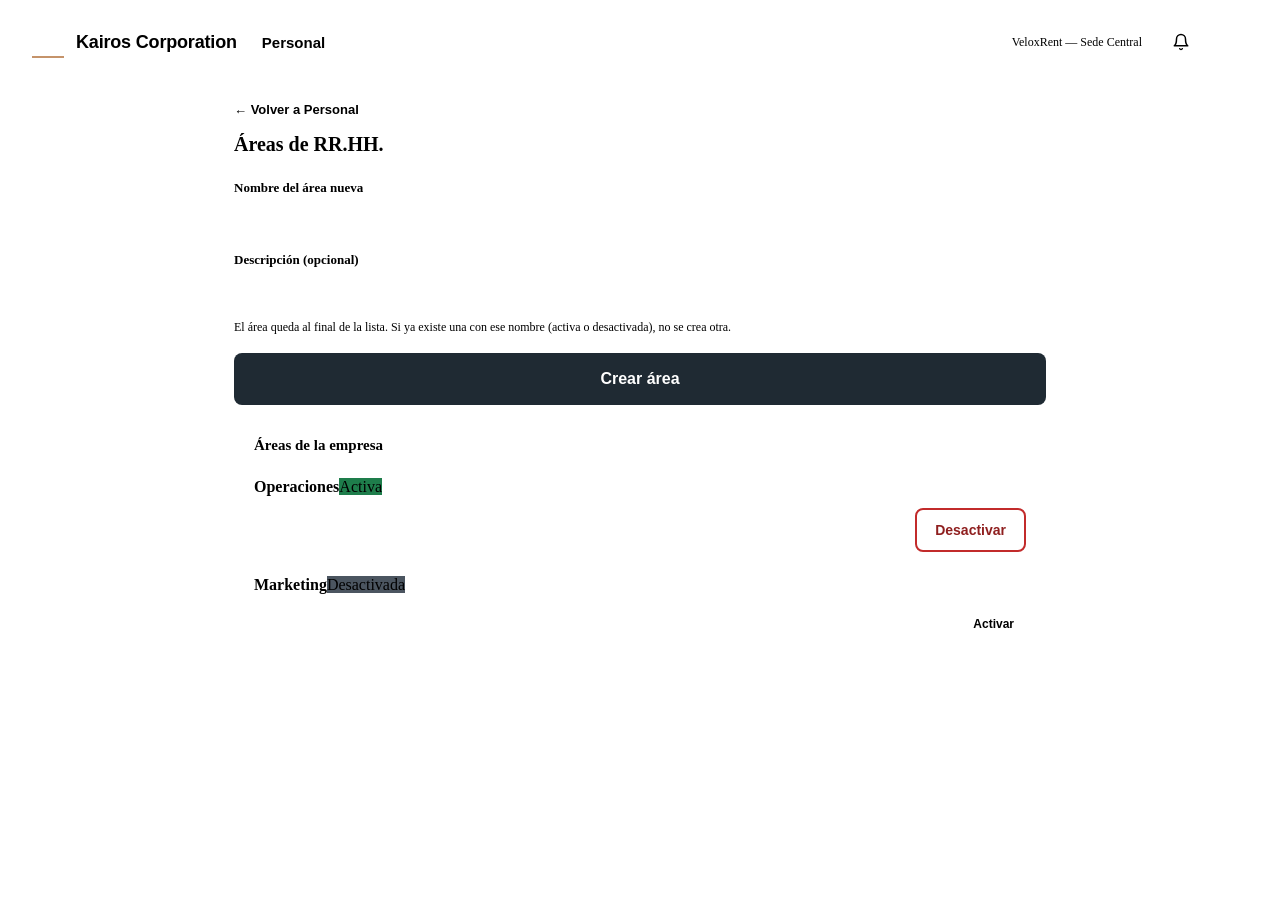
Test: AreasScreen (gestión de áreas de RR.HH.) › desactiva y reactiva un área
Click the button with aria-label "Desactivar el área Operaciones" at point(971, 530), box 915,508 -> 1026,552
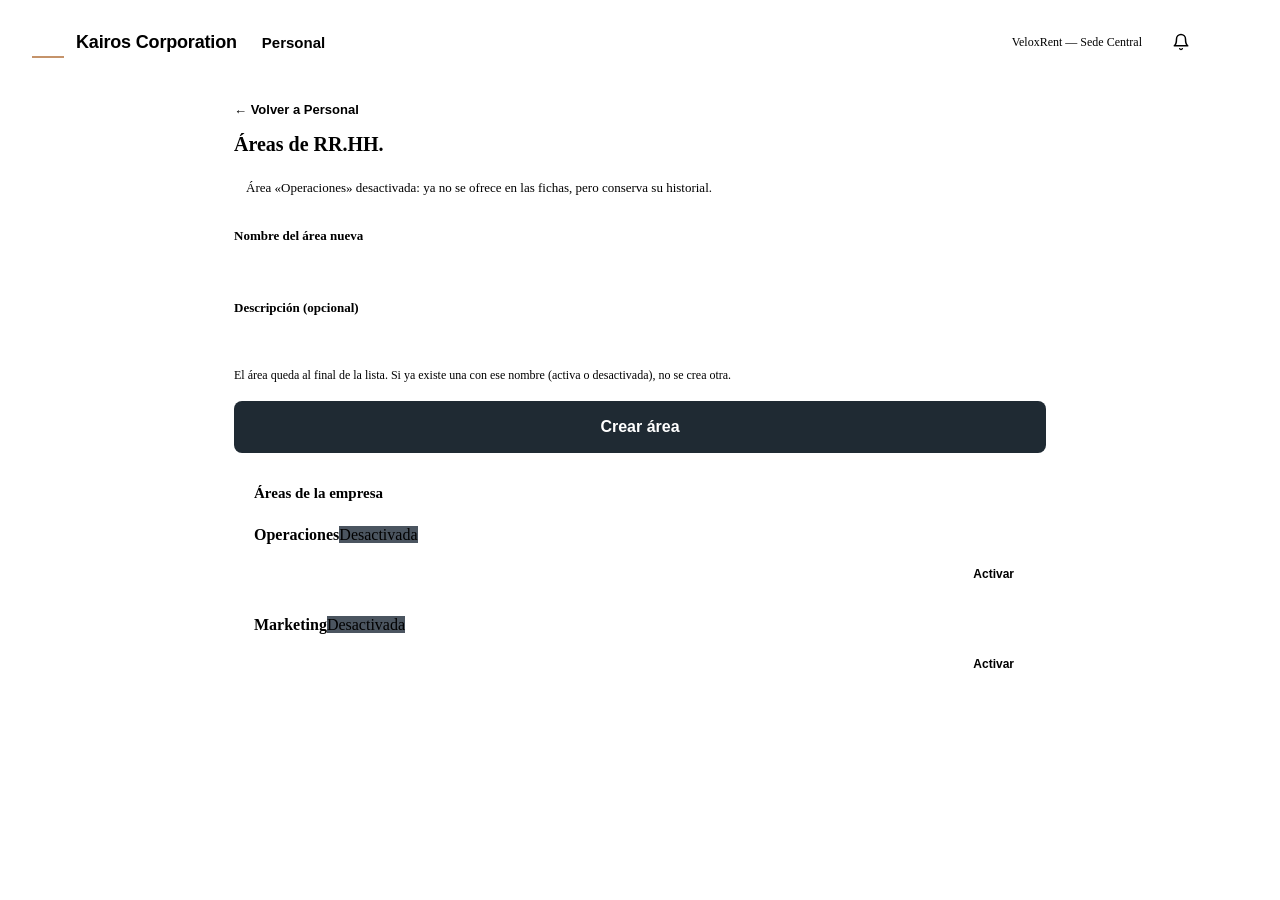
Now the text "Área «Operaciones» desactivada" is shown, box 246,180 -> 712,195
Click the button with aria-label "Activar el área Marketing" at point(994, 664), box 961,646 -> 1026,682
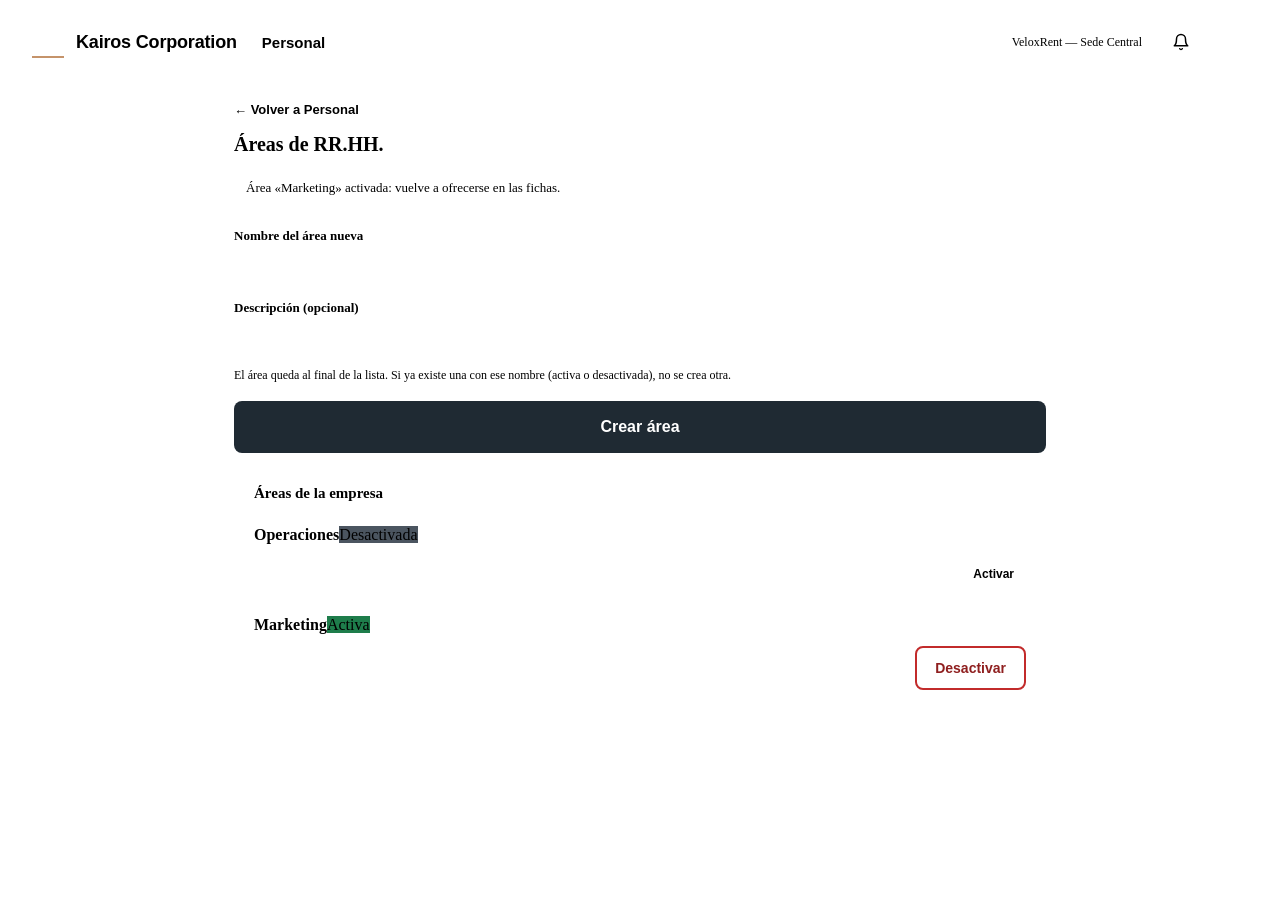
Now the text "Área «Marketing» activada: vuelve a ofrecerse en las fichas." is shown, box 246,180 -> 560,195
